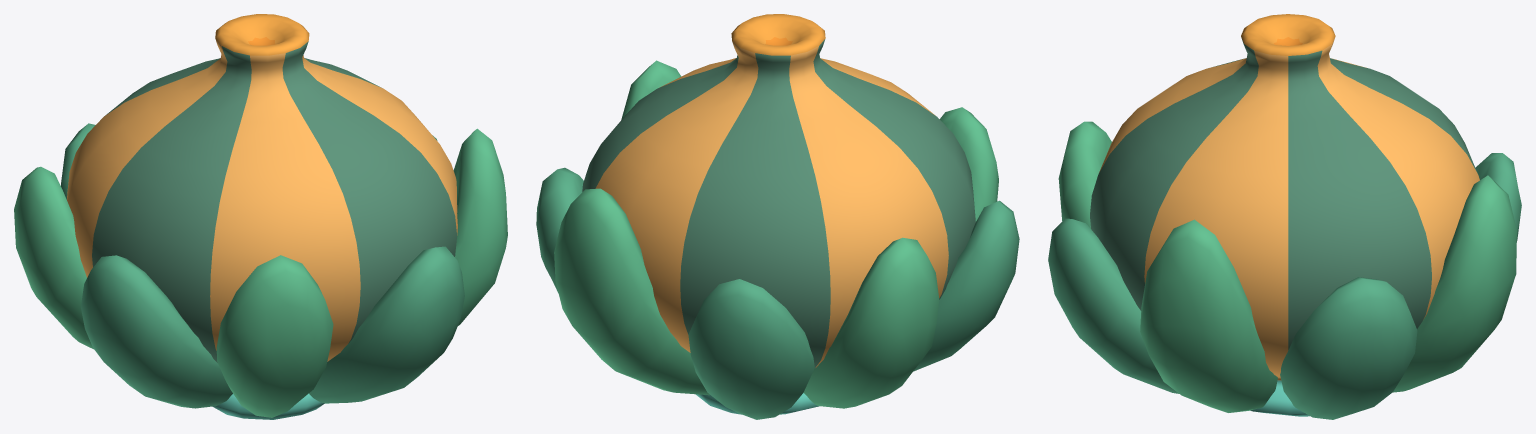
File: Bulber_B_01.fbx
3 views of the same model, side by side, from view 1: azimuth 30°, elevation 25°; view 2: azimuth 150°, elevation 25°; view 3: azimuth 270°, elevation 25° (orthographic).
Visible parts, largest first — view 1: Bulber_B_01_LOD0; view 2: Bulber_B_01_LOD0; view 3: Bulber_B_01_LOD0.
Boxes of the visible parts, <box> form: Bulber_B_01_LOD0: <box>14,14,507,419</box>; Bulber_B_01_LOD0: <box>536,14,1019,419</box>; Bulber_B_01_LOD0: <box>1048,14,1521,419</box>.
Size of what is drawn, in the model's own units: 604 by 506 by 602.
